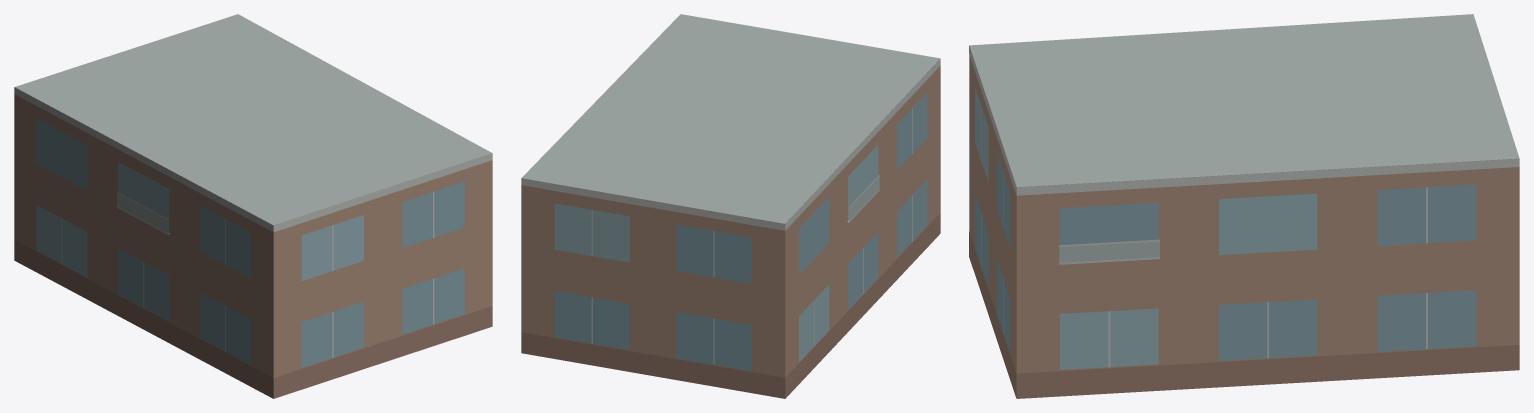
Rendered from survey-upis-32935857.glb.
3 views of the same model, side by side, from view 1: azimuth 30°, elevation 25°; view 2: azimuth 150°, elevation 25°; view 3: azimuth 270°, elevation 25° (orthographic). The views are drawn at different scales.
Visible parts, largest first — view 1: survey-upis-32935857.tmp; view 2: survey-upis-32935857.tmp; view 3: survey-upis-32935857.tmp.
Boxes of the visible parts, bbox=[...] form: survey-upis-32935857.tmp: bbox=[14, 14, 492, 398]; survey-upis-32935857.tmp: bbox=[521, 14, 940, 398]; survey-upis-32935857.tmp: bbox=[969, 14, 1519, 398].
Bounding box in the file's own units: 10.72 × 6.1 × 14.39.
